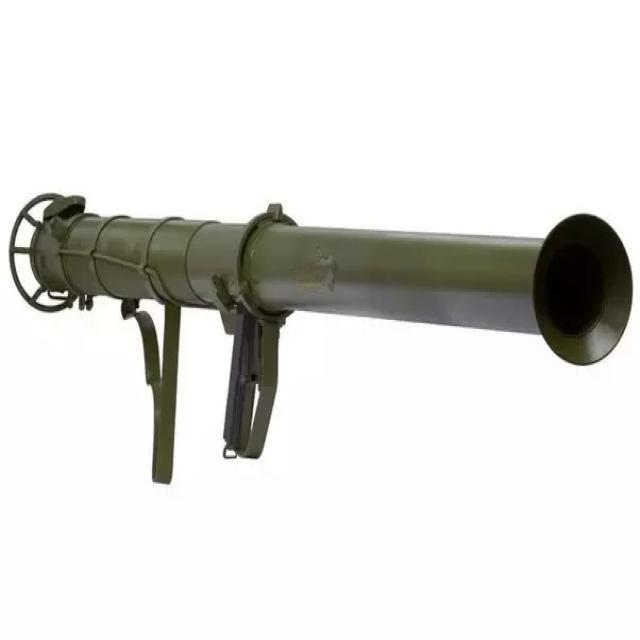bazooka: (8, 133, 640, 504)
